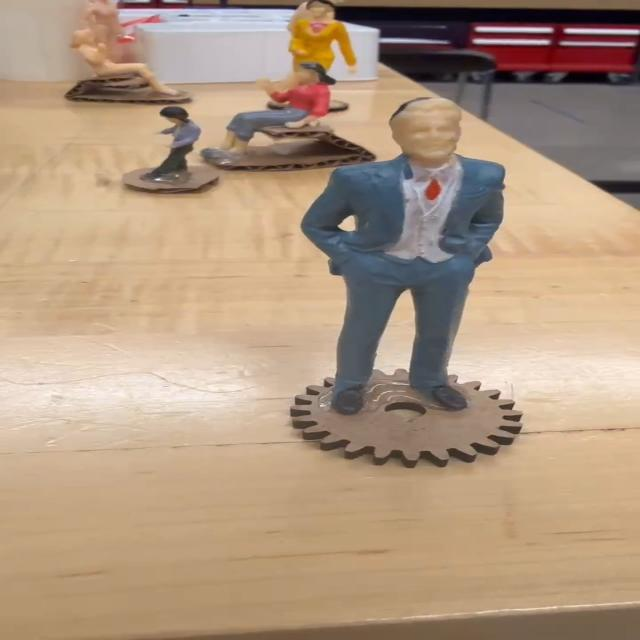Authorized: (297, 94, 560, 467)
